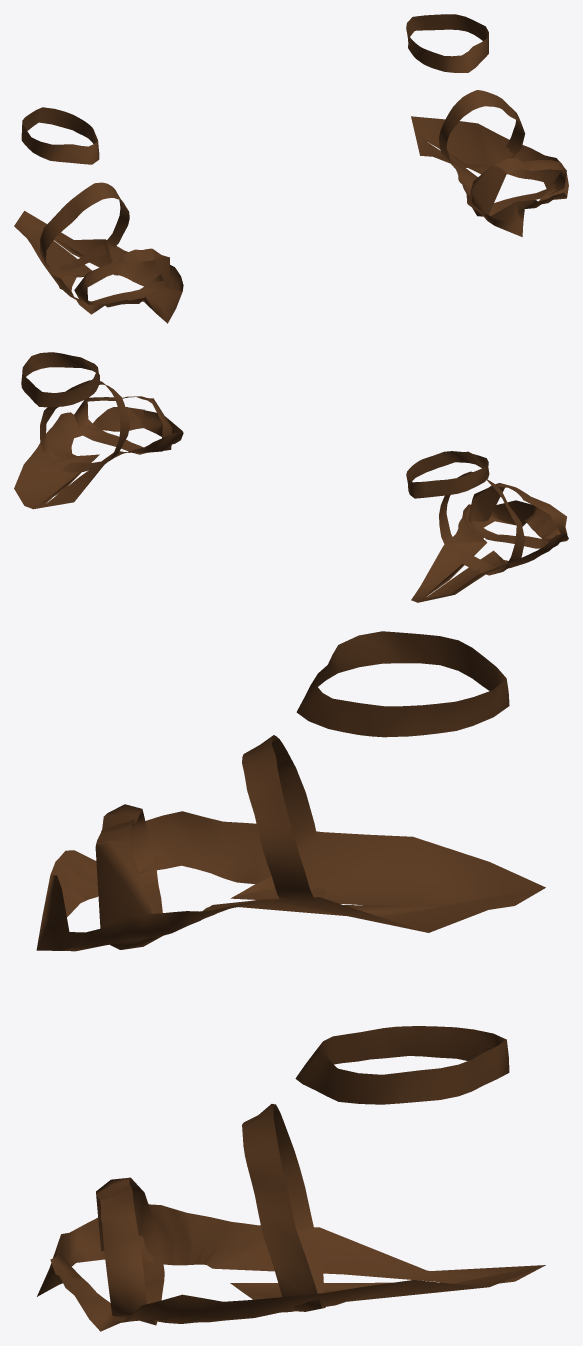
Rendered from sandals.glb.
The picture shows the model from 3 angles, top to bottom: view 1: azimuth 30°, elevation 25°; view 2: azimuth 150°, elevation 25°; view 3: azimuth 270°, elevation 25°; orthographic projection. The views are drawn at different scales.
Parts seen in each view (by area): view 1: sandals; view 2: sandals; view 3: sandals.
Part boxes in pixels (left/top/right/bottom): sandals: left=14, top=14, right=568, bottom=323; sandals: left=14, top=352, right=568, bottom=602; sandals: left=36, top=631, right=545, bottom=1331.
Bounding box in the file's own units: 0.5311 × 0.1389 × 0.2362.
